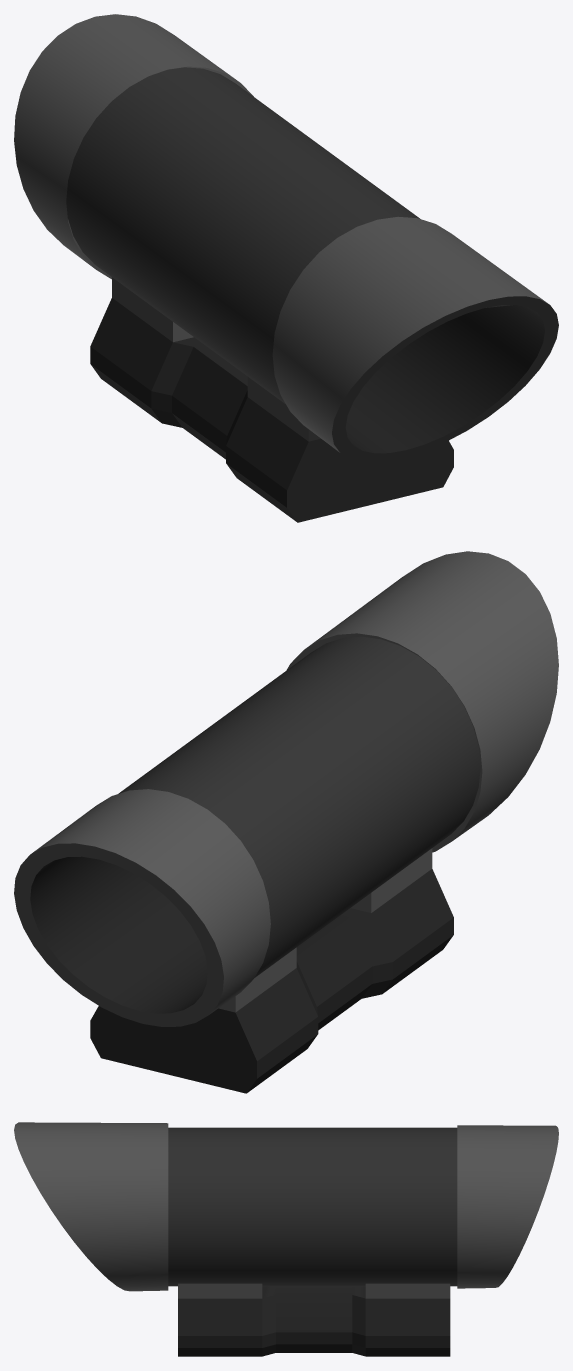
The model's file is scope_1.fbx.
3 views of the same model, one above another, from view 1: azimuth 30°, elevation 25°; view 2: azimuth 150°, elevation 25°; view 3: azimuth 270°, elevation 25° (orthographic). The views are drawn at different scales.
Parts seen in each view (by area): view 1: scope_1; view 2: scope_1; view 3: scope_1.
Boxes of the visible parts, x1,y1,x2,y2 form: scope_1: (14,14,558,522); scope_1: (14,551,558,1093); scope_1: (14,1122,558,1356).
Bounding box in the file's own units: 207 × 275 × 673.
